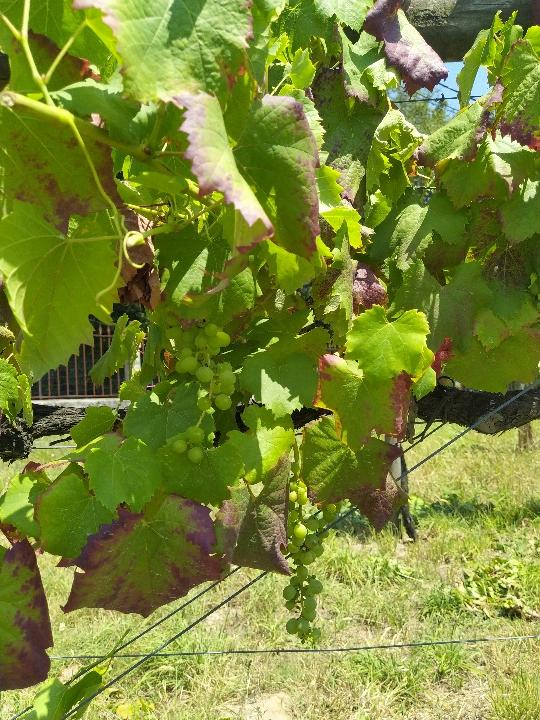grape: (272, 479, 348, 648), (169, 323, 242, 467)
